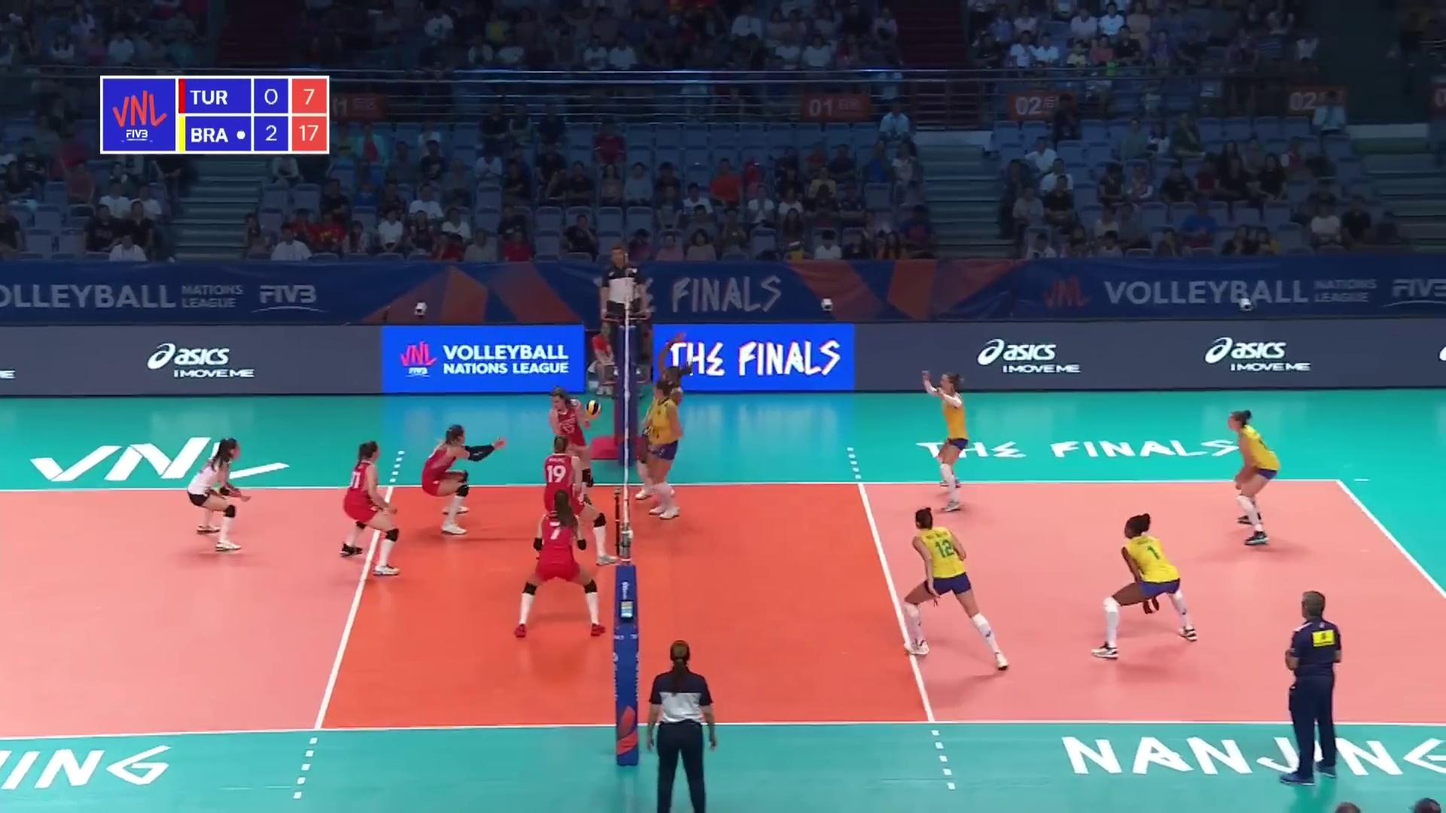player: (904, 508, 1009, 669), (1095, 516, 1202, 656), (514, 493, 604, 635), (532, 432, 617, 566), (421, 425, 503, 540), (636, 334, 689, 503), (344, 440, 402, 574), (920, 368, 974, 510), (1225, 411, 1282, 545), (187, 438, 249, 552), (547, 392, 596, 512), (650, 378, 682, 518)
refree: (645, 639, 719, 813), (596, 244, 646, 371)
